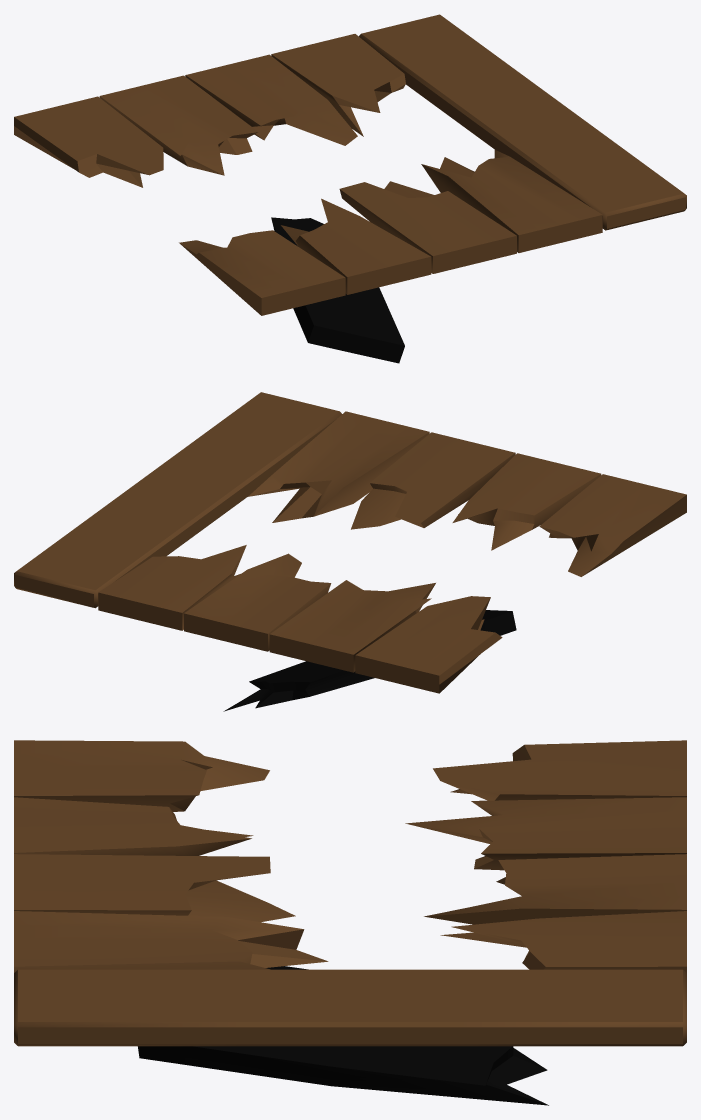
Rendered from boden_1x1_kaputt.glb.
The picture shows the model from 3 angles, top to bottom: view 1: azimuth 30°, elevation 25°; view 2: azimuth 150°, elevation 25°; view 3: azimuth 270°, elevation 25°; orthographic projection. The views are drawn at different scales.
Visible parts, largest first — view 1: boden_1x1_kaputt; view 2: boden_1x1_kaputt; view 3: boden_1x1_kaputt.
Boxes of the visible parts, x1,y1,x2,y2 form: boden_1x1_kaputt: (14, 14, 686, 363); boden_1x1_kaputt: (14, 392, 686, 711); boden_1x1_kaputt: (14, 740, 686, 1105).
Bounding box in the file's own units: 0.996 × 0.3212 × 1.
